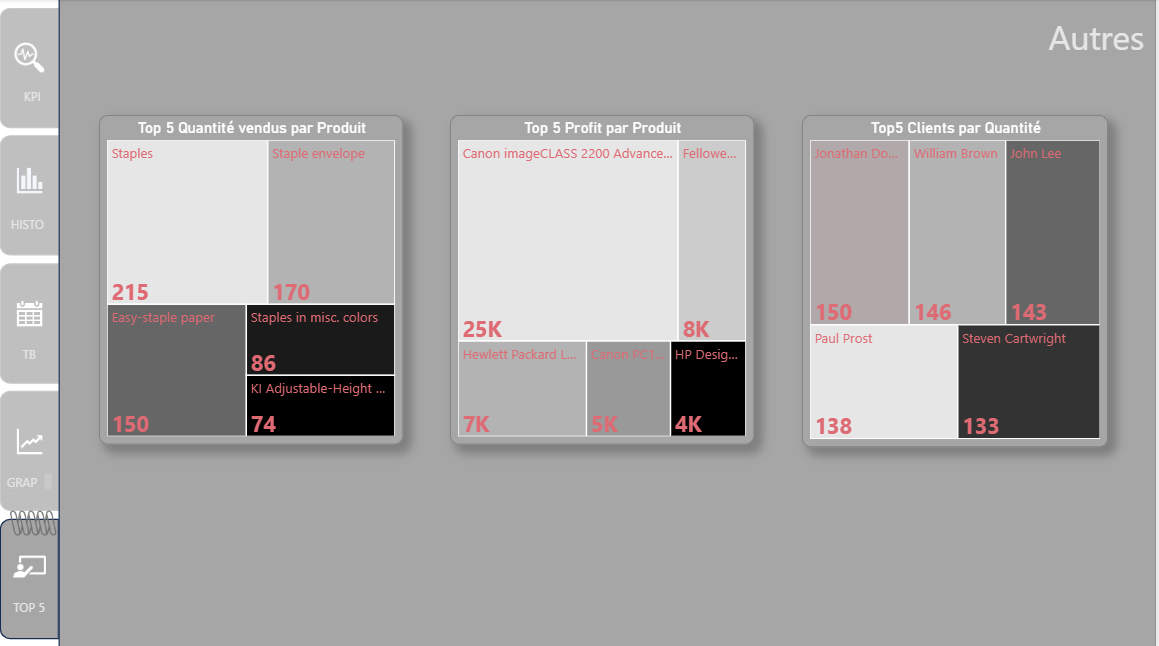

The page's visual inventory and layout, read from the dashboard file:
{"tool":"powerbi","page":{"name":"feuille5","canvas":[1280,720],"ordinal":9},"visuals":[{"type":"textbox","box":[800.6,11.6,471.6,64.3],"z":0},{"type":"treemap","title":"Top 5 Quantité vendus par Produit","fields":{"Group":["Superstore 2025.Product Name"],"Values":["Superstore 2025.Quantity"]},"box":[109.2,128.5,336.7,365],"z":1000},{"type":"treemap","title":"Top 5 Profit par Produit","fields":{"Group":["Superstore 2025.Product Name"],"Values":["Superstore 2025.Profit"]},"box":[498.6,128.5,336.7,365],"z":2000},{"type":"treemap","title":"Top5  Clients par Quantité","fields":{"Group":["Superstore 2025.Customer Name"],"Values":["Superstore 2025.Quantity"]},"box":[888,128.5,339.3,367.6],"z":3000},{"type":"image","box":[7.7,39.8,50.1,50.1],"z":4000},{"type":"image","box":[7.7,604,50.1,50.1],"z":5000},{"type":"image","box":[7.7,176.1,50.1,50.1],"z":6000},{"type":"image","box":[7.7,465.2,50.1,50.1],"z":7000},{"type":"image","box":[7.7,323.9,50.1,50.1],"z":8000},{"type":"textbox","box":[7.7,93.8,42.4,33.4],"z":9000},{"type":"textbox","box":[0,236.5,60.4,32.1],"z":10000},{"type":"textbox","box":[2.6,380.4,60.4,32.1],"z":11000},{"type":"textbox","box":[2.6,520.5,60.4,32.1],"z":12000},{"type":"textbox","box":[2.6,660.6,60.4,32.1],"z":13000},{"type":"shape","box":[0,11.6,63,131.1],"z":14000},{"type":"shape","box":[0,151.6,63,131.1],"z":15000},{"type":"shape","box":[0,434.4,63,131.1],"z":16000},{"type":"shape","box":[0,575.7,63,131.1],"z":17000},{"type":"shape","box":[0,294.3,63,131.1],"z":18000}]}

Visuals, with their boxes on the page's 1280x720 design canvas (x1, y1, x2, y2). These are canvas units, not pixel positions in the 1159x646 screenshot, which may show the page scaled, cropped or inside an application window:
textbox: <bbox>801, 12, 1272, 76</bbox>
"Top 5 Quantité vendus par Produit" treemap: <bbox>109, 128, 446, 494</bbox>
"Top 5 Profit par Produit" treemap: <bbox>499, 128, 835, 494</bbox>
"Top5  Clients par Quantité" treemap: <bbox>888, 128, 1227, 496</bbox>
image: <bbox>8, 40, 58, 90</bbox>
image: <bbox>8, 604, 58, 654</bbox>
image: <bbox>8, 176, 58, 226</bbox>
image: <bbox>8, 465, 58, 515</bbox>
image: <bbox>8, 324, 58, 374</bbox>
textbox: <bbox>8, 94, 50, 127</bbox>
textbox: <bbox>0, 236, 60, 269</bbox>
textbox: <bbox>3, 380, 63, 412</bbox>
textbox: <bbox>3, 520, 63, 553</bbox>
textbox: <bbox>3, 661, 63, 693</bbox>
shape: <bbox>0, 12, 63, 143</bbox>
shape: <bbox>0, 152, 63, 283</bbox>
shape: <bbox>0, 434, 63, 566</bbox>
shape: <bbox>0, 576, 63, 707</bbox>
shape: <bbox>0, 294, 63, 425</bbox>
